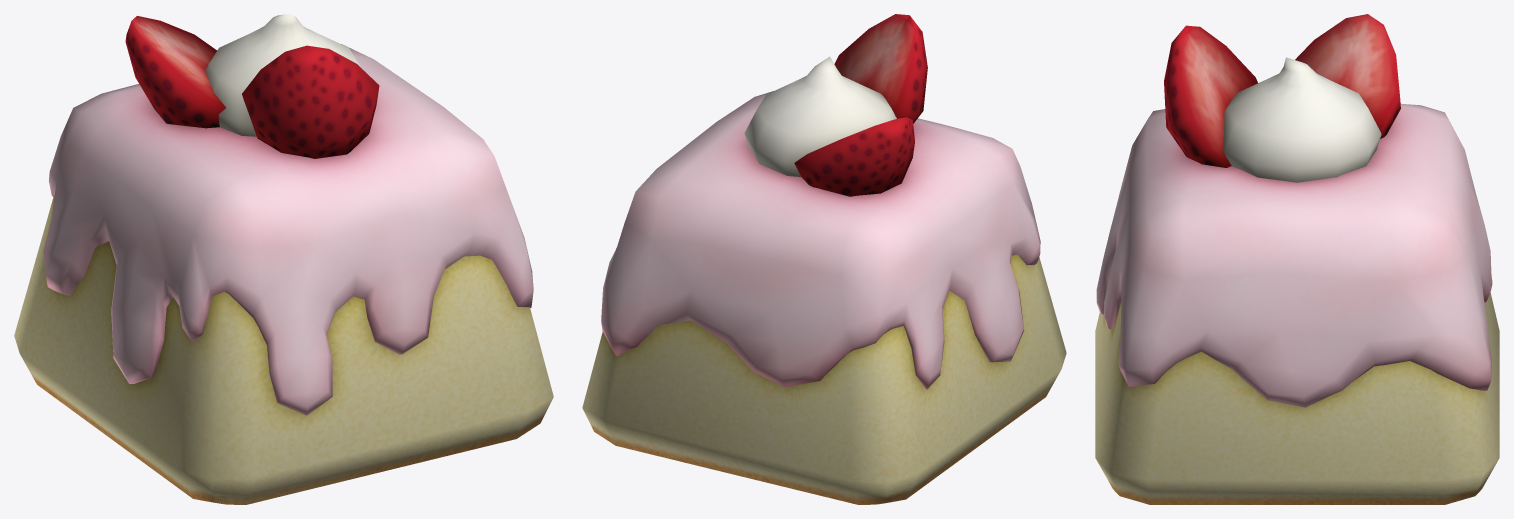
File: strawberry_pound_cake.glb
3 renders of one model, left to right at view 1: azimuth 30°, elevation 25°; view 2: azimuth 150°, elevation 25°; view 3: azimuth 270°, elevation 25°, orthographic. The views are drawn at different scales.
Visible parts, largest first — view 1: Cube; view 2: Cube; view 3: Cube.
Boxes of the visible parts, box(x1,y1,x2,y2) form: Cube: box(14, 14, 553, 504); Cube: box(582, 14, 1066, 504); Cube: box(1095, 14, 1499, 504).
Size of the model in its own units: 519 by 562 by 518.
Materials: 1 (1 with a texture image).
